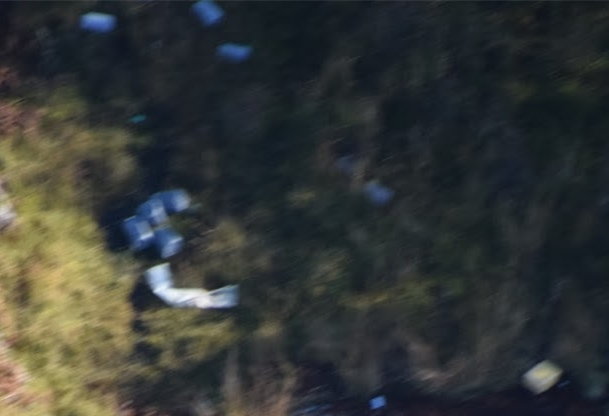scattered_barrel: (69, 1, 263, 76)
together_barrel: (122, 184, 245, 311)
white_in_green: (498, 334, 582, 415), (344, 152, 415, 226), (352, 380, 400, 416)
